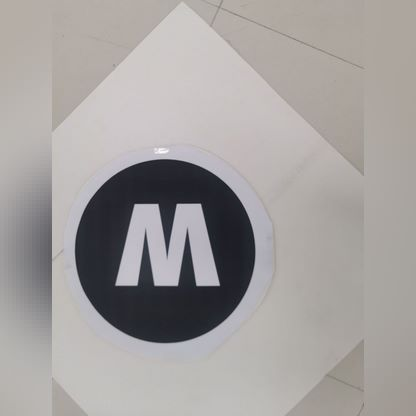W: (87, 165, 250, 333)
